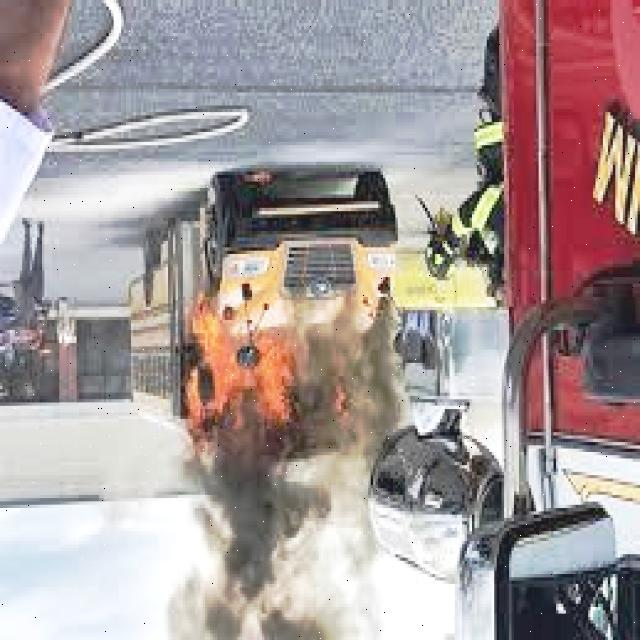api: (182, 291, 328, 463)
